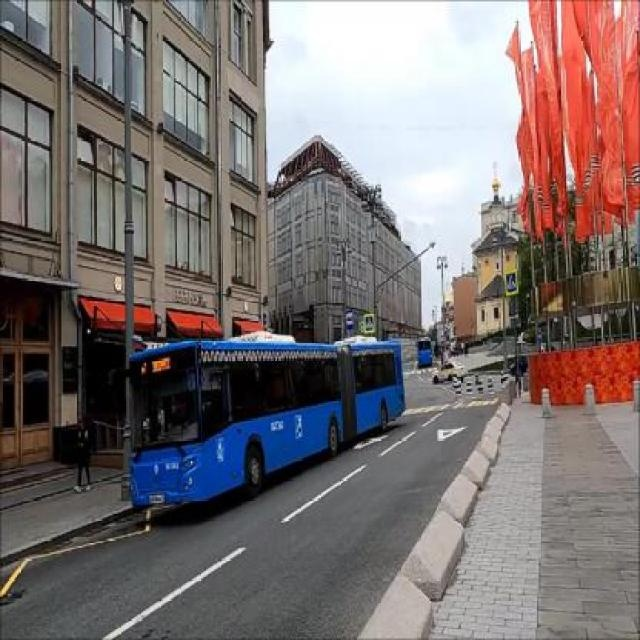Bus: (128, 332, 406, 510)
